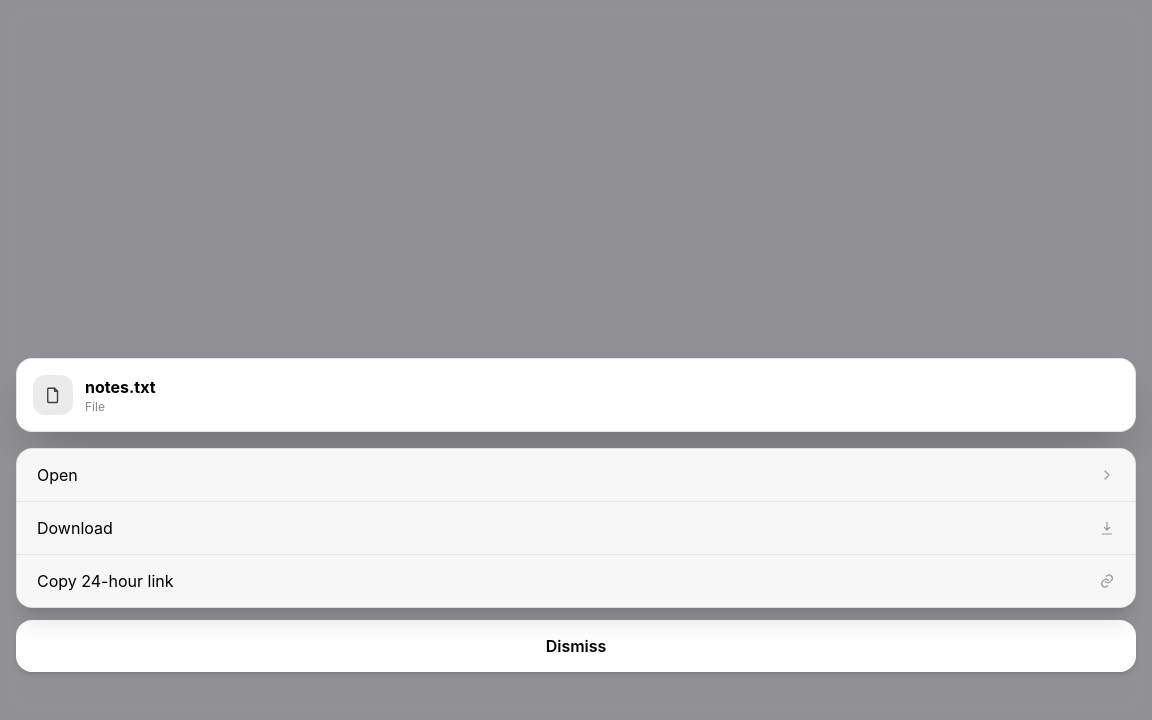
Test: ContextMenu › copies a minted 24-hour link on a non-public vdir
Click the button with test id "action-copy-temp-link" at (105, 581), box [17, 555, 1135, 607]
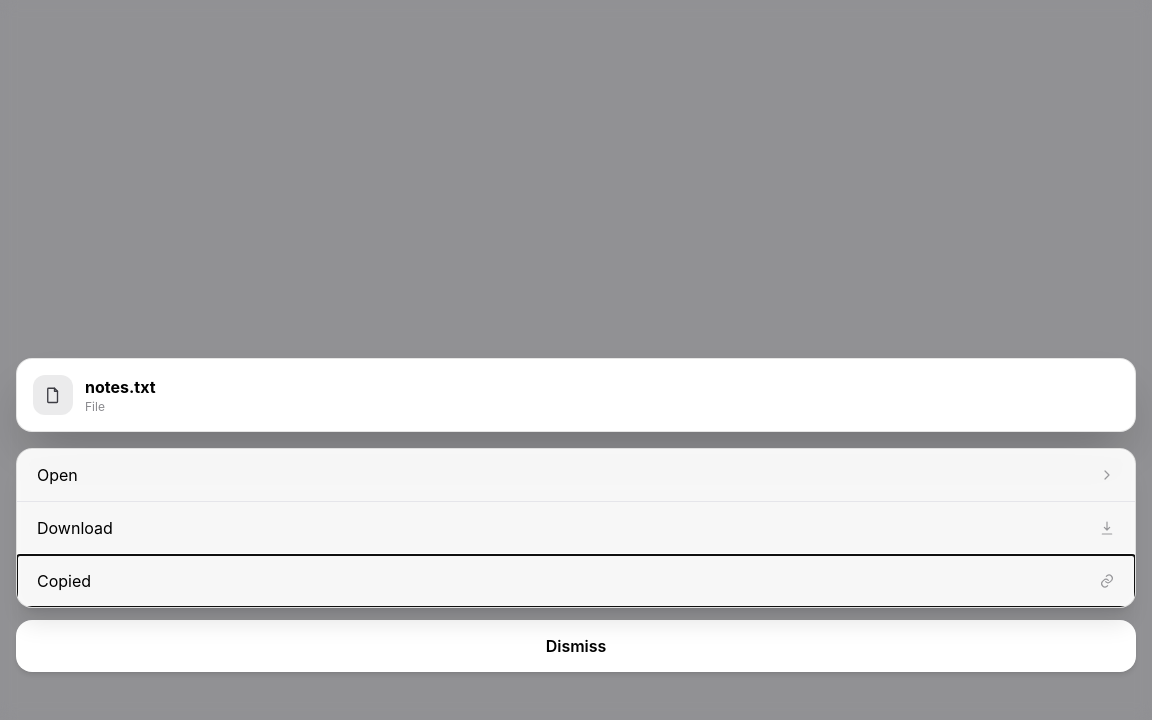
Expected: the button with test id "action-copy-temp-link" reads "Copied", [17, 555, 1135, 607]
